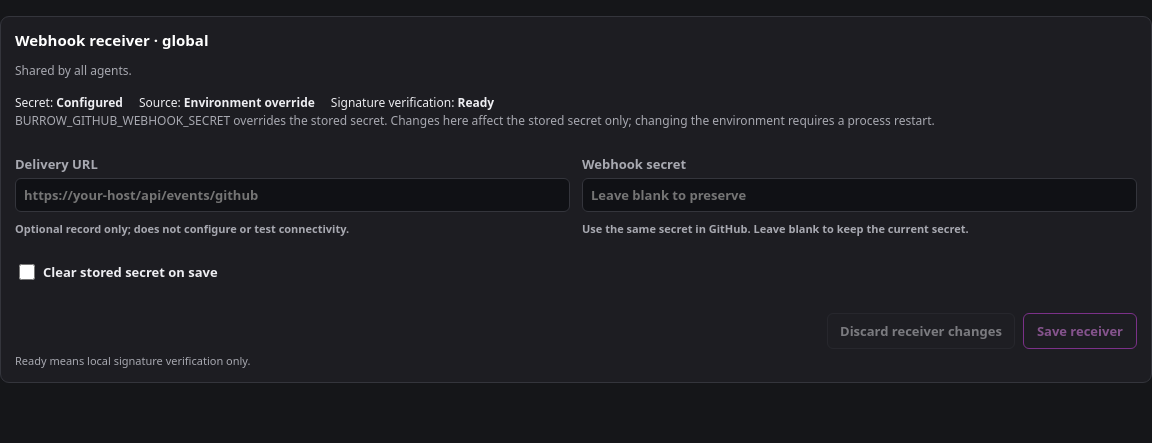
Test: explains environment precedence while allowing stored secret changes
This screenshot has width=1152, height=443.
Expected: the text "Configured" is shown, 56,94 -> 123,111
Expected: the text "Environment override" is shown, 184,94 -> 315,111
Click the checkbox labelled "Clear stored secret on save". click: (27, 272)
box: 19,264 -> 35,280
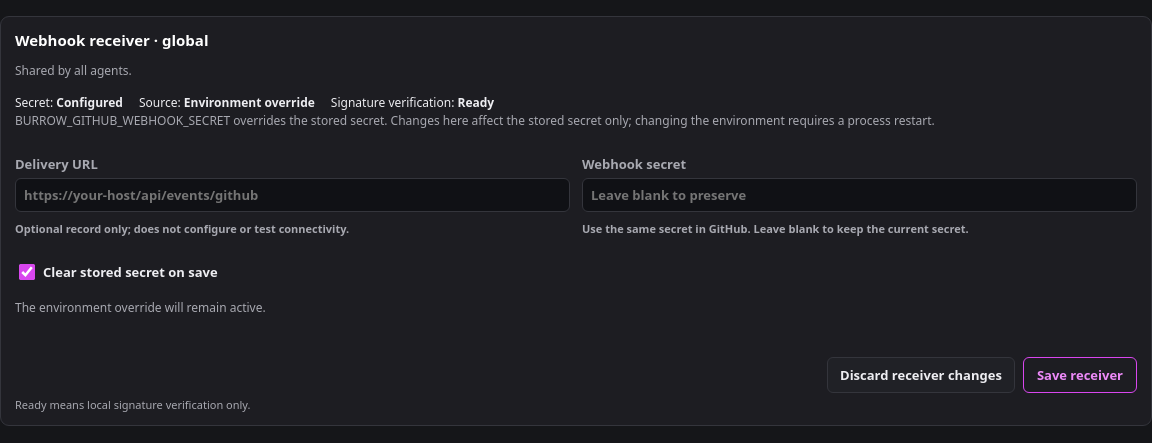
Now the text "The environment override will remain active." is shown, box 15,299 -> 266,316
